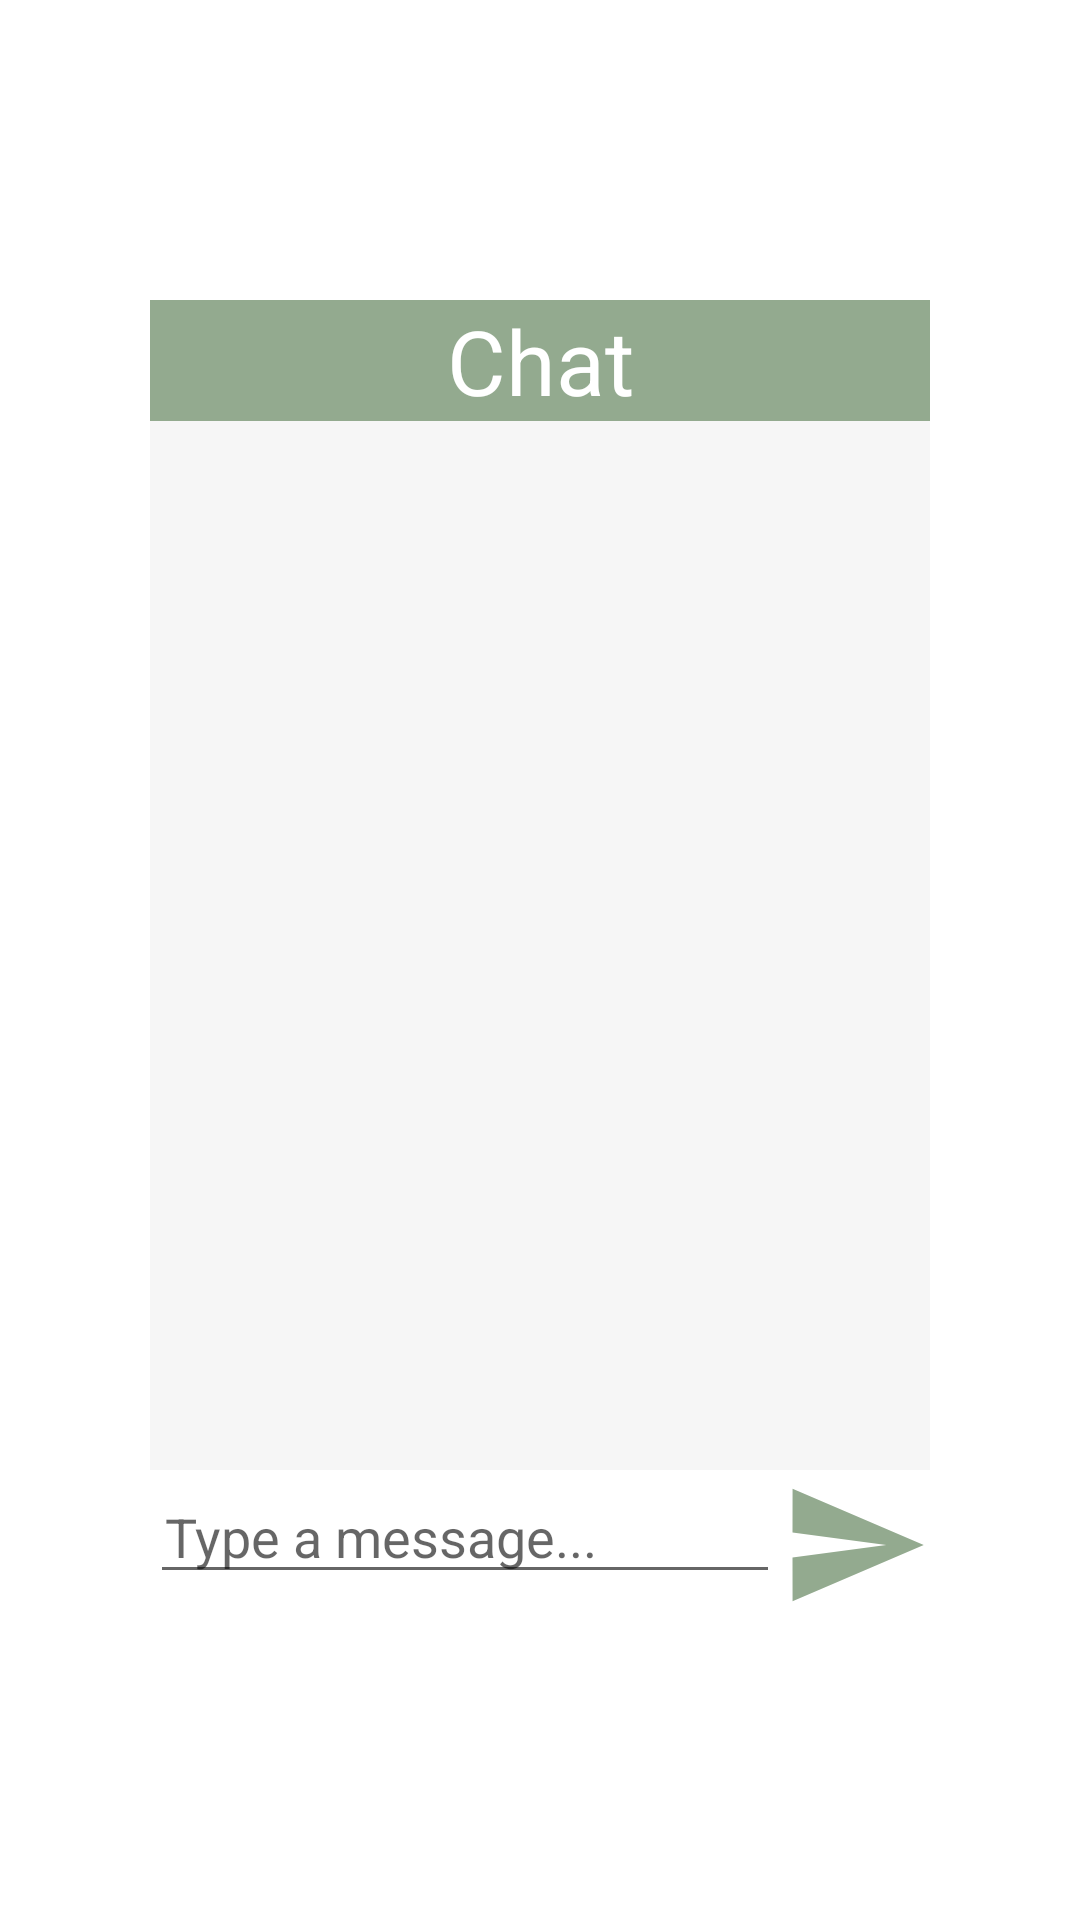

Icons on this 1080px x 1920px Android screen, each with its box as (x1, y1, x2, y2):
send: (792, 1489, 923, 1601)
